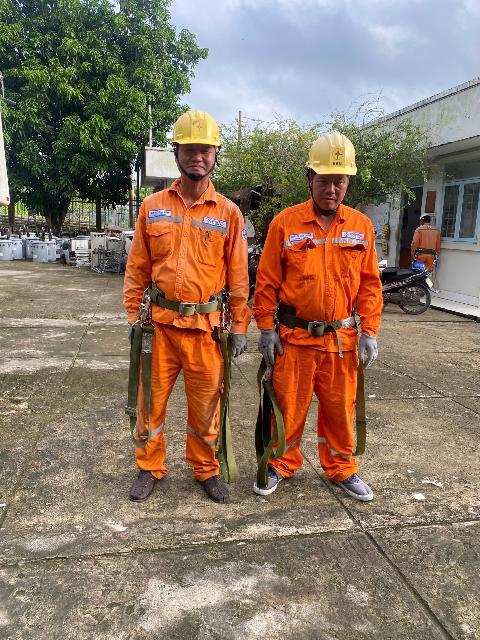gloves: (257, 318, 284, 365), (355, 326, 381, 370), (226, 329, 247, 357)
harness: (127, 275, 239, 322), (271, 296, 359, 340)
helmet: (302, 121, 362, 184), (171, 101, 230, 151)
shoes: (323, 464, 384, 504), (181, 472, 240, 506), (251, 455, 291, 497), (125, 469, 163, 502)
